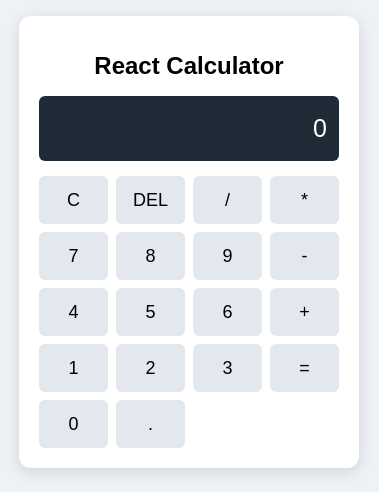
Test: performs addition
This screenshot has width=379, height=492.
Click the button "2": (150, 368) [116,344,185,392]
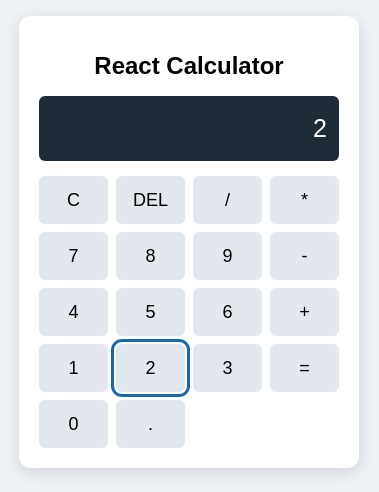
Click the button "+": (304, 312) [270,288,339,336]
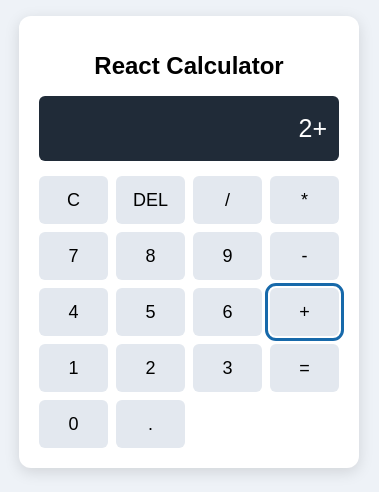
Click the button "3": (228, 368) [193,344,262,392]
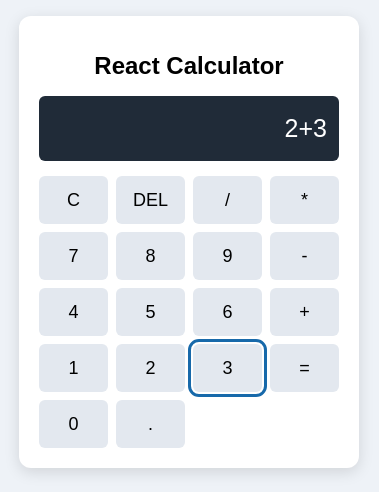
Click the button "=": (304, 368) [270,344,339,392]
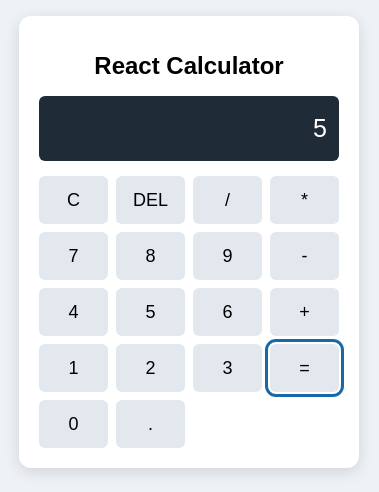
Expected: the text with test id "display" reads "5", [313,114,327,142]
